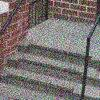stairs: (5, 40, 100, 100)
